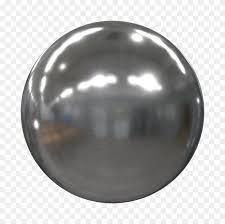steelball: (19, 12, 208, 211)
